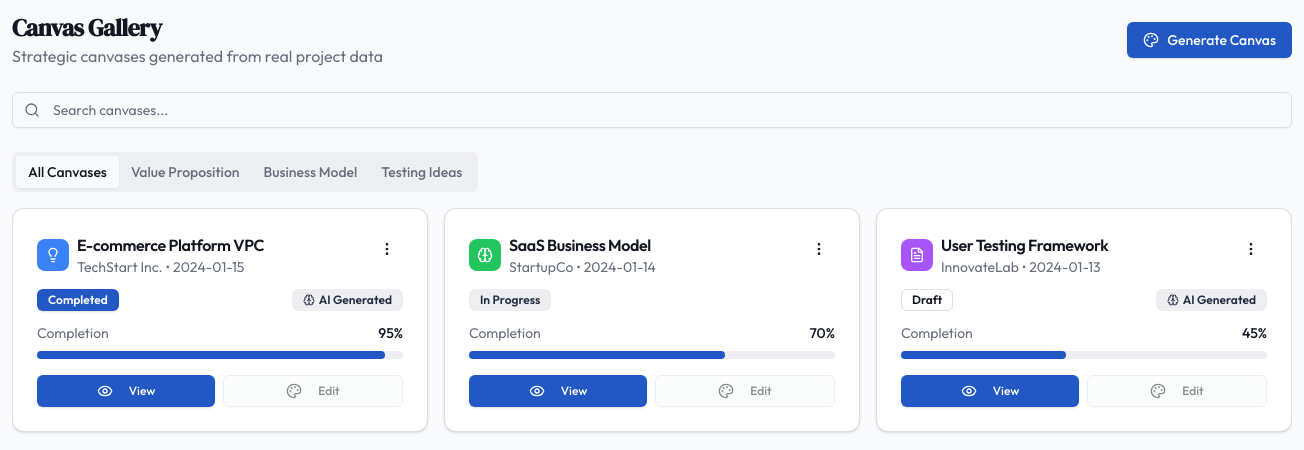
Test: CanvasGallery › Canvas Type Filtering › filters by canvas type
Step 1. Click the tab "Value Proposition" → (185, 172), box 119,156 -> 252,188
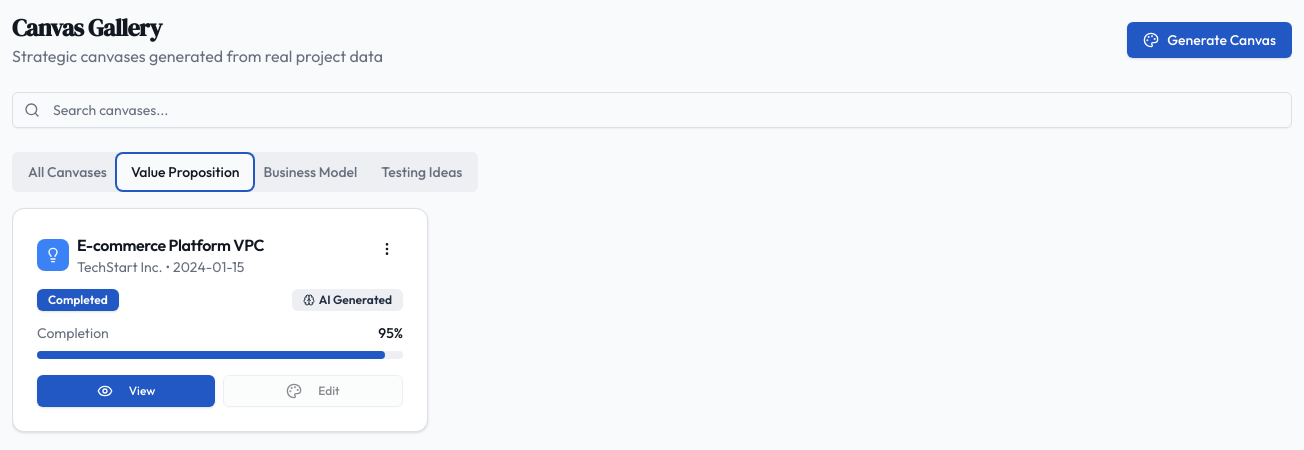
Expected: the text "E-commerce Platform VPC" is shown, 77,233 -> 264,257
Now the text "SaaS Business Model" is gone
